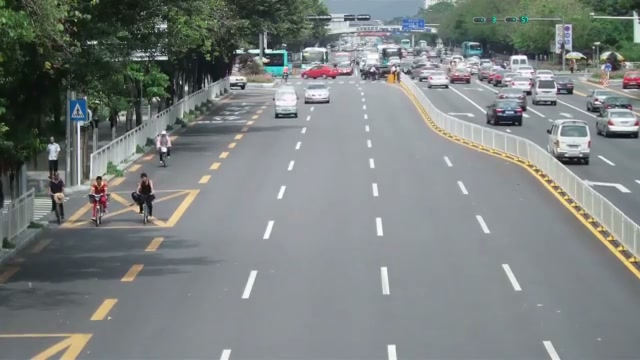bus: (263, 50, 291, 79), (331, 52, 354, 76), (302, 47, 329, 66)
car: (547, 119, 592, 165), (595, 108, 639, 138), (485, 100, 523, 126), (274, 87, 298, 118), (303, 64, 338, 79), (304, 86, 330, 104), (427, 73, 450, 89), (622, 70, 640, 90), (449, 69, 472, 84), (555, 78, 575, 94), (229, 77, 247, 90)
pedestrian: (133, 172, 155, 221), (48, 171, 67, 223), (88, 176, 108, 223), (156, 129, 172, 166), (46, 136, 61, 175)
truck: (531, 73, 558, 106)
